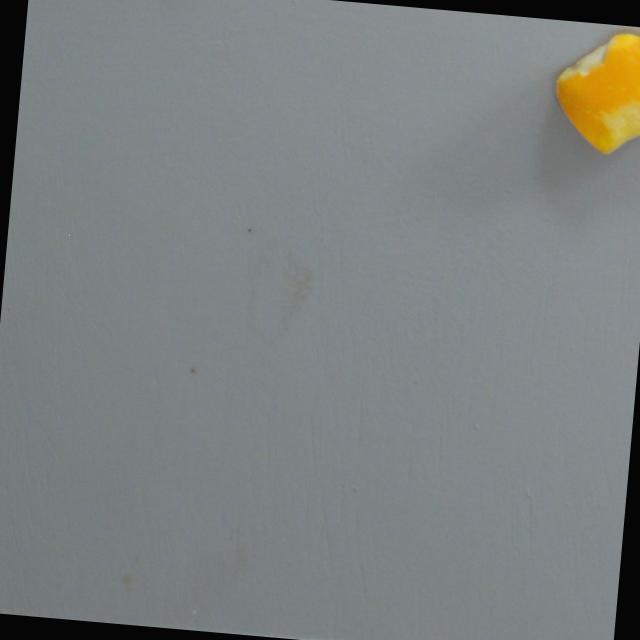no_canjicado: (546, 27, 640, 158)
